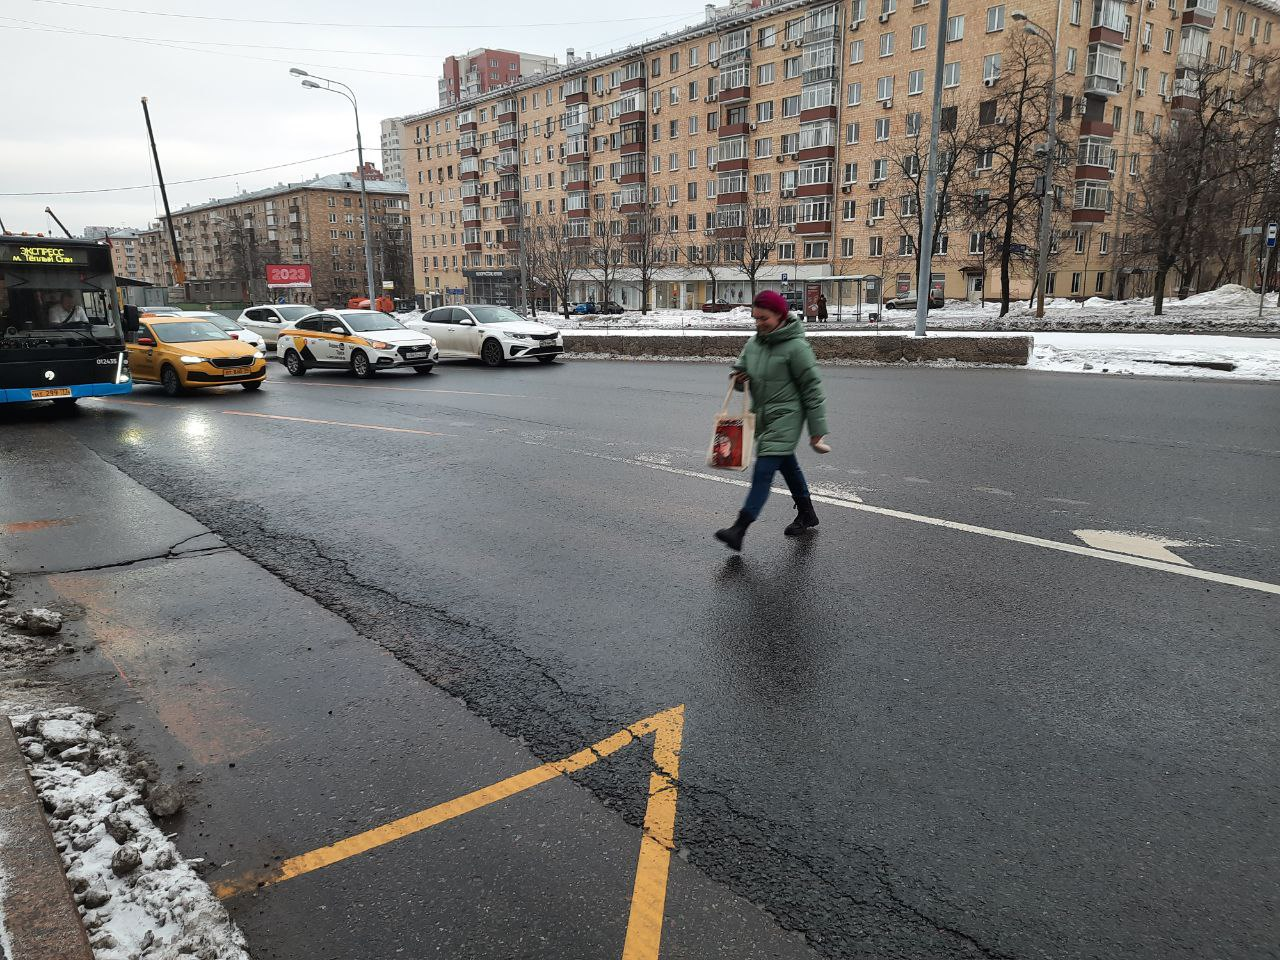sombie: (700, 265, 880, 572)
